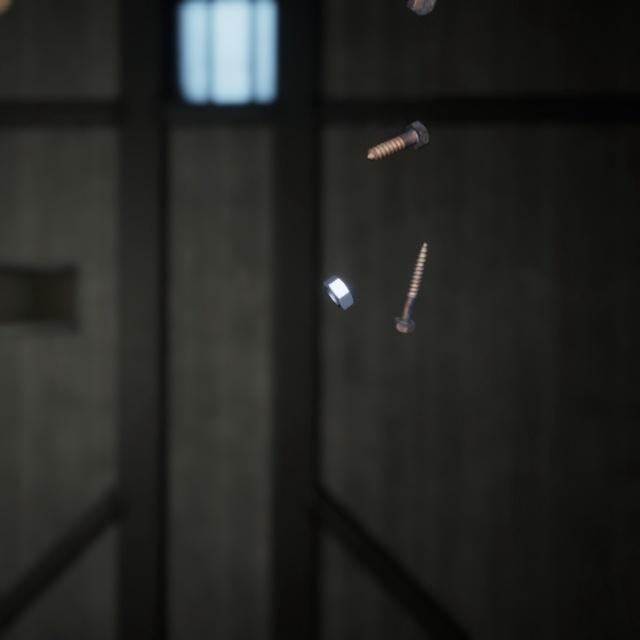bolt: (387, 221, 431, 321), (362, 104, 433, 153)
nut: (320, 254, 359, 297)
